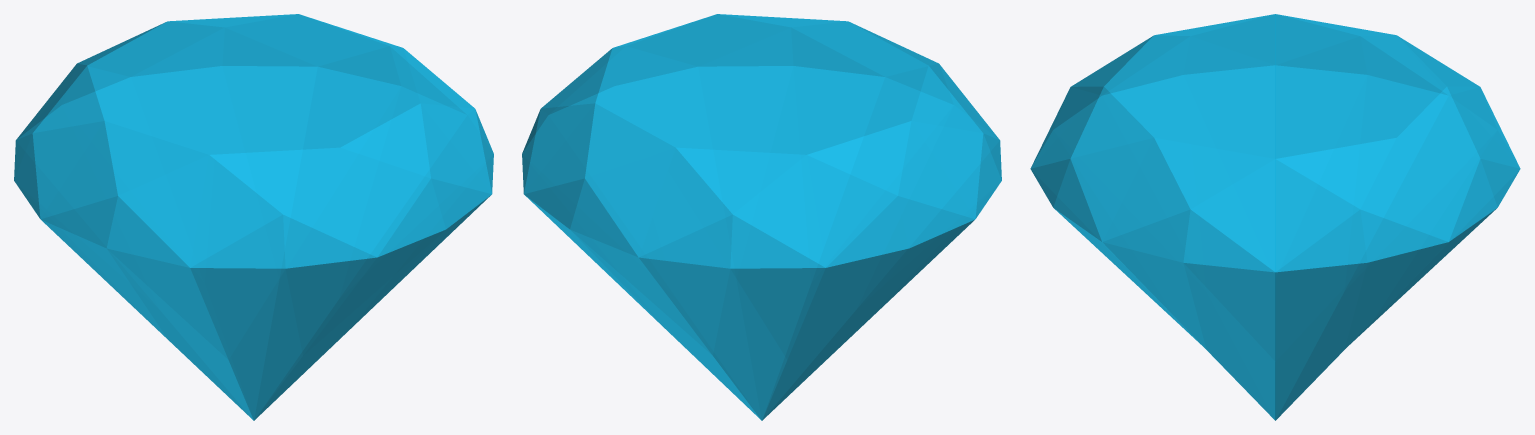
Rendered from diamond.glb.
The picture shows the model from 3 angles, left to right: view 1: azimuth 30°, elevation 25°; view 2: azimuth 150°, elevation 25°; view 3: azimuth 270°, elevation 25°; orthographic projection.
Parts seen in each view (by area): view 1: Diamond; view 2: Diamond; view 3: Diamond.
Part boxes in pixels (bbox=[...]): Diamond: bbox=[14, 14, 493, 420]; Diamond: bbox=[522, 14, 1001, 420]; Diamond: bbox=[1030, 14, 1520, 420].
Bounding box in the file's own units: 0.4082 × 0.3074 × 0.4082.
